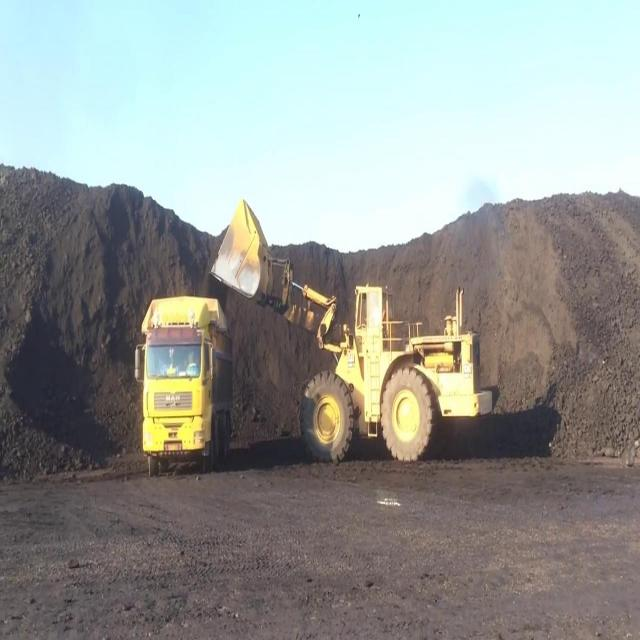Dump Truck: (133, 292, 235, 478)
Loader: (209, 182, 494, 462)
